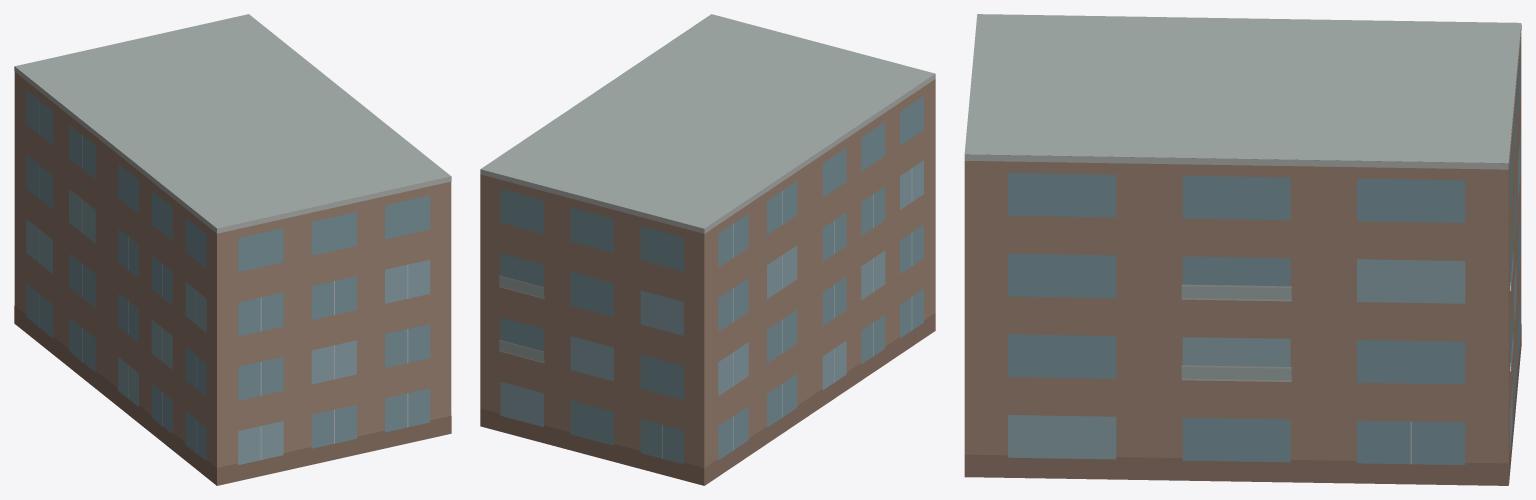
File: residential-4c10b7c8-56a5-40ab-8608-24bd120b256a.glb
3 renders of one model, left to right at view 1: azimuth 30°, elevation 25°; view 2: azimuth 150°, elevation 25°; view 3: azimuth 270°, elevation 25°, orthographic. The views are drawn at different scales.
Visible parts, largest first — view 1: residential-4c10b7c8-56a5-40ab-8608-24bd120b256a.tmp; view 2: residential-4c10b7c8-56a5-40ab-8608-24bd120b256a.tmp; view 3: residential-4c10b7c8-56a5-40ab-8608-24bd120b256a.tmp.
Boxes of the visible parts, bbox=[...] form: residential-4c10b7c8-56a5-40ab-8608-24bd120b256a.tmp: bbox=[14, 14, 451, 485]; residential-4c10b7c8-56a5-40ab-8608-24bd120b256a.tmp: bbox=[480, 14, 935, 485]; residential-4c10b7c8-56a5-40ab-8608-24bd120b256a.tmp: bbox=[964, 14, 1521, 485].
Size of the model in its own units: 12.1 by 12.2 by 19.09.
